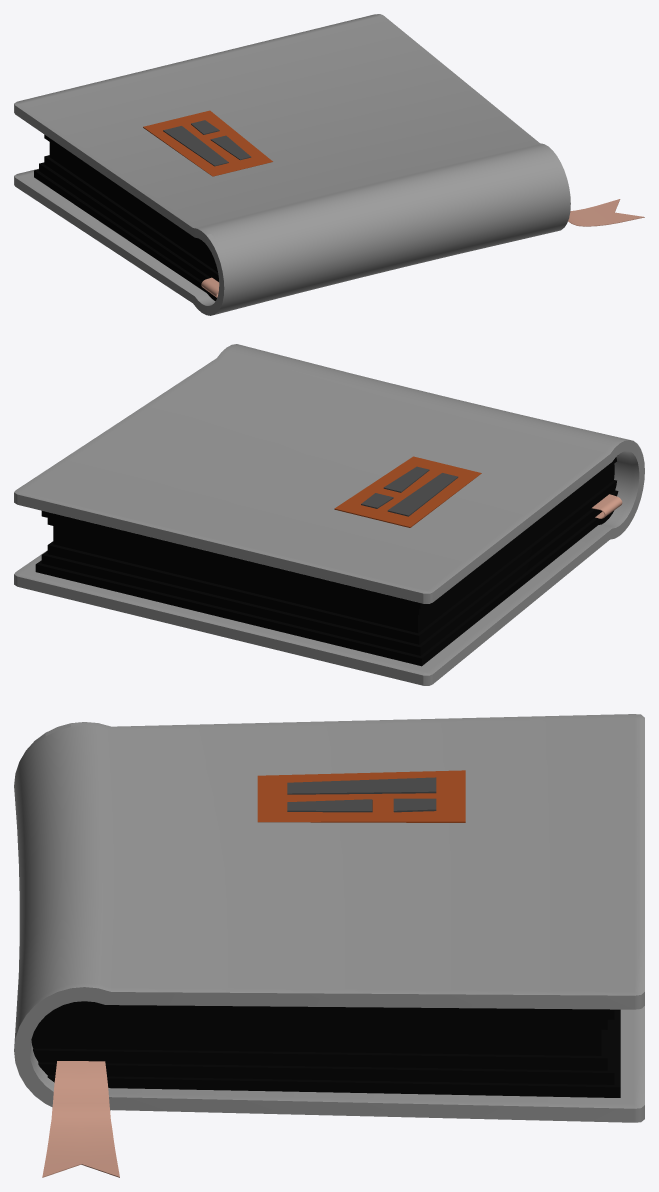
File: Bookmark_Blue.FBX
3 renders of one model, top to bottom at view 1: azimuth 30°, elevation 25°; view 2: azimuth 150°, elevation 25°; view 3: azimuth 270°, elevation 25°, orthographic. The views are drawn at different scales.
Visible parts, largest first — view 1: Cylinder104; view 2: Cylinder104; view 3: Cylinder104.
Boxes of the visible parts, x1,y1,x2,y2 form: Cylinder104: (14, 14, 644, 315); Cylinder104: (14, 344, 644, 685); Cylinder104: (14, 714, 644, 1177).
Bounding box in the file's own units: 2269 × 405 × 1796.
